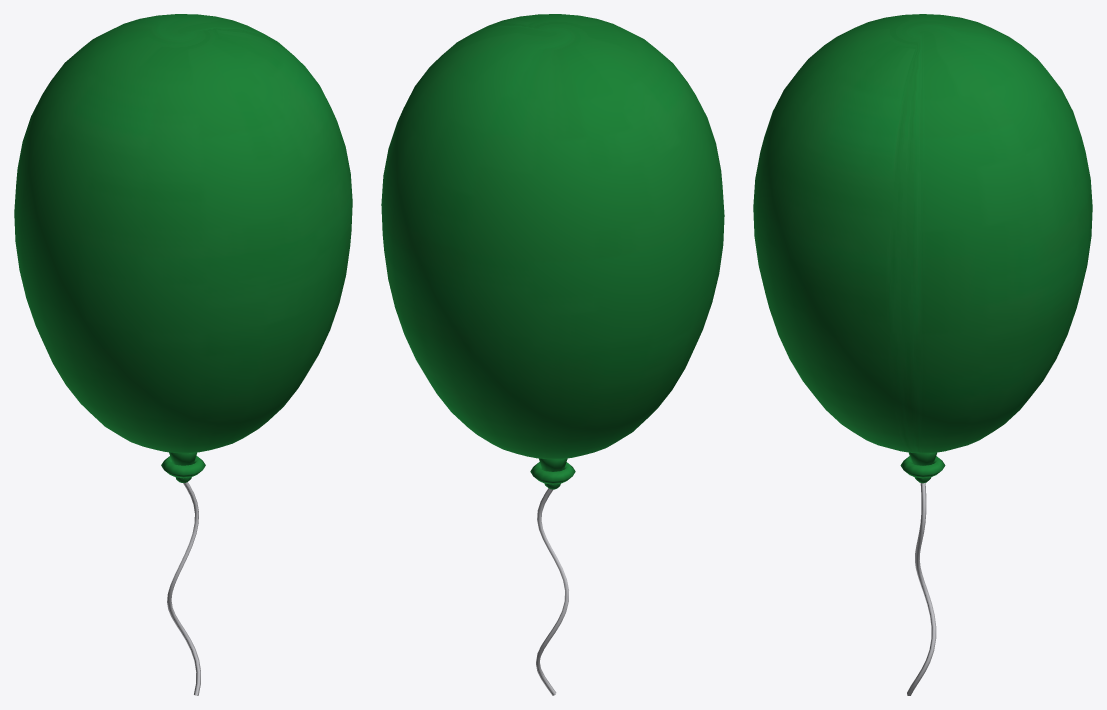
The model's file is bloon_green.glb.
3 views of the same model, side by side, from view 1: azimuth 30°, elevation 25°; view 2: azimuth 150°, elevation 25°; view 3: azimuth 270°, elevation 25° (orthographic).
Visible parts, largest first — view 1: bloon_green; view 2: bloon_green; view 3: bloon_green.
Part boxes in pixels (x1,y1,x2,y2): bloon_green: (14,14,352,695); bloon_green: (381,14,724,695); bloon_green: (753,14,1092,695).
Size of the model in its own units: 1.09 by 2.33 by 1.09.
Materials: 2 (1 with a texture image).
